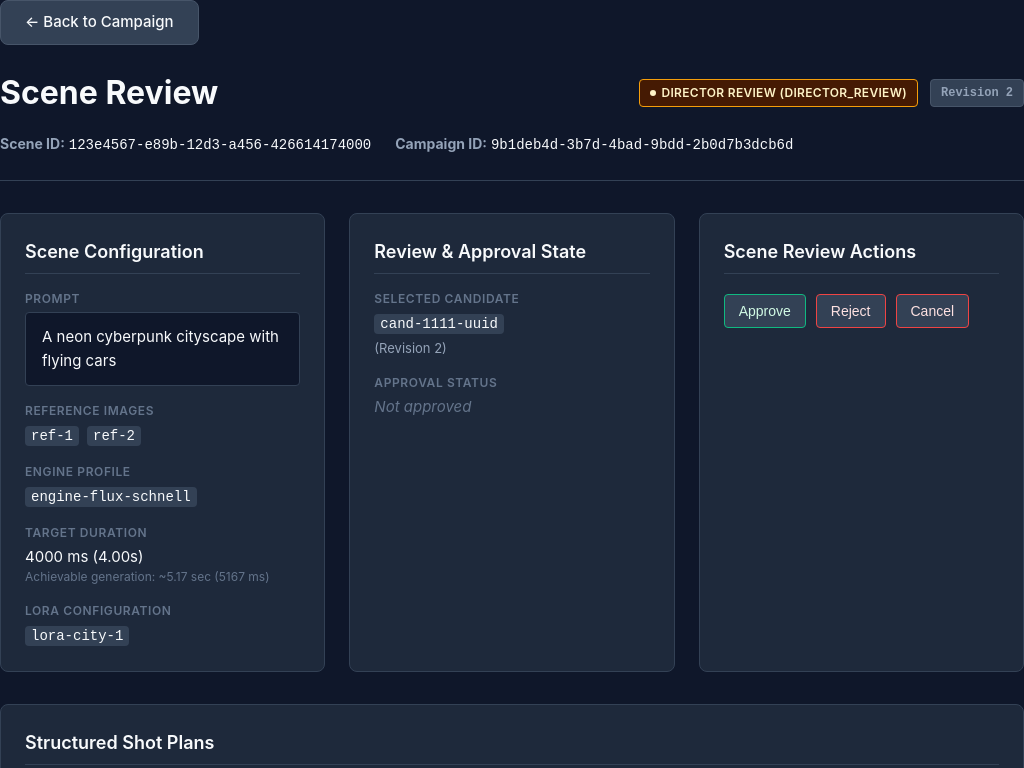
Scenario: SceneReviewDetailView: ShotPlanPanel Reachability & Generation › clicking non-cancel toolbar action does not show cancellation warning and uses standard Confirm & Submit wording
Click the button with test id "action-button-reject" at (851, 310), box [816,294,886,328]
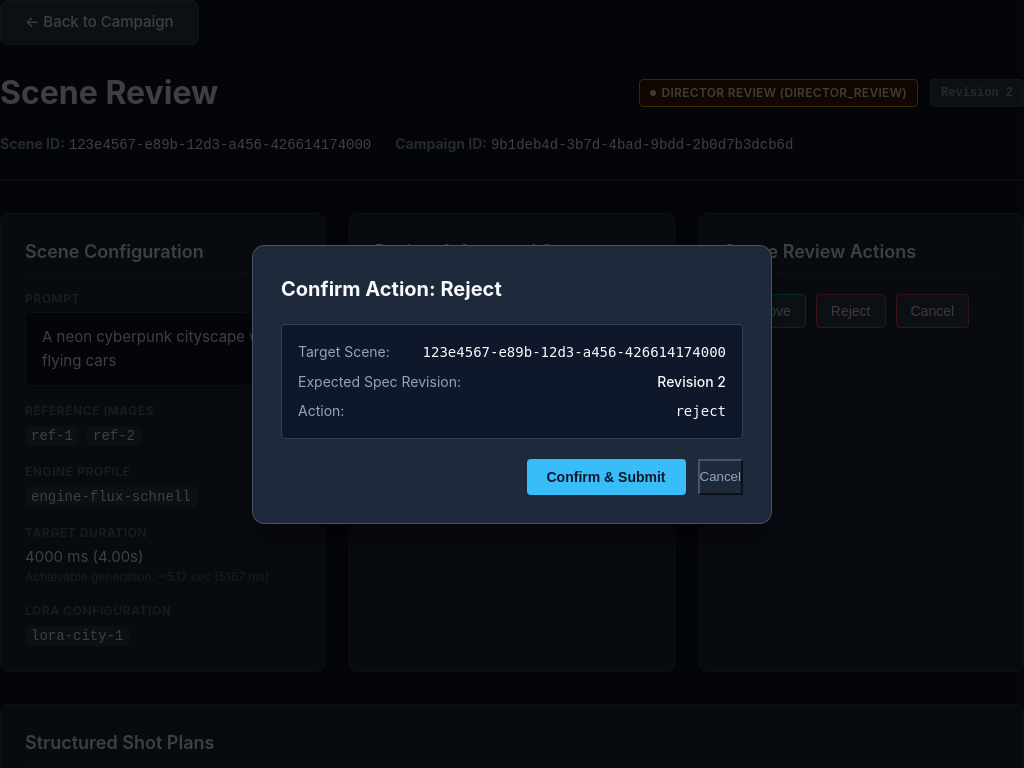
Expected: the dialog with test id "review-command-dialog" is shown, [252,244,772,524]
Expected: the button with test id "confirm-command-button" reads "Confirm & Submit", [526,458,686,494]
